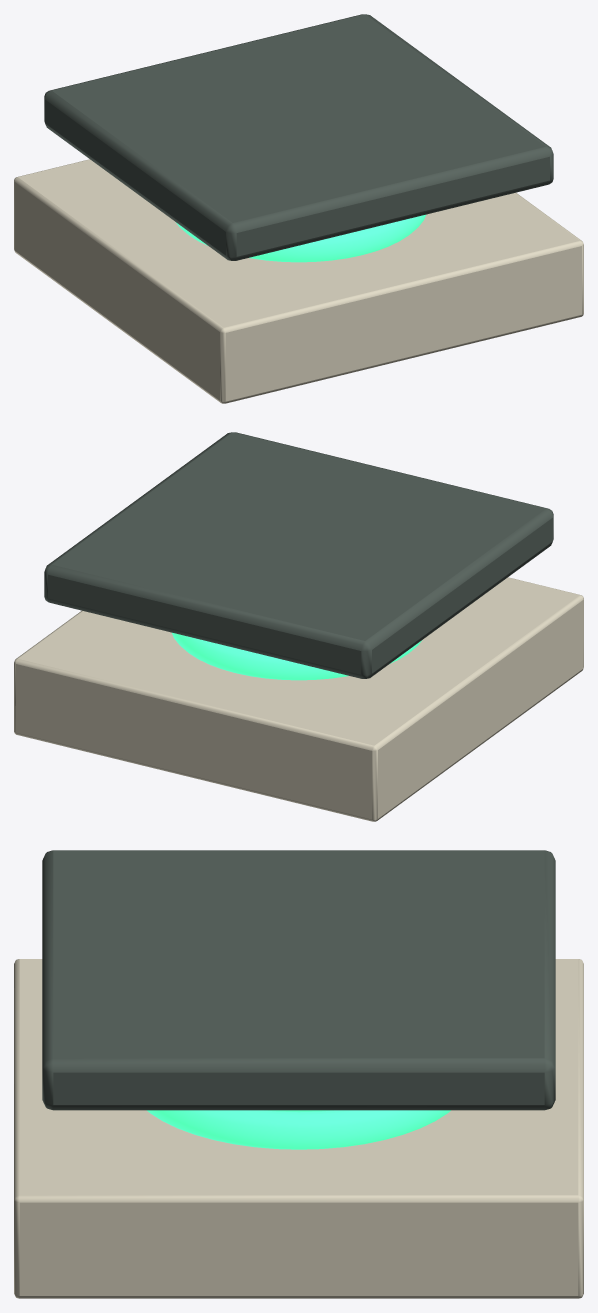
The model's file is zonai_spring-leM8MP_C.glb.
3 views of the same model, one above another, from view 1: azimuth 30°, elevation 25°; view 2: azimuth 150°, elevation 25°; view 3: azimuth 270°, elevation 25° (orthographic). The views are drawn at different scales.
Parts seen in each view (by area): view 1: body, plate; view 2: body, plate; view 3: plate, body.
Part boxes in pixels (box(x1,y1,x2,y2)): body: box(14, 159, 583, 403); plate: box(44, 14, 553, 260); body: box(14, 577, 583, 821); plate: box(44, 432, 553, 678); plate: box(42, 850, 555, 1110); body: box(14, 959, 583, 1298).
Size of the model in its own units: 0.8 by 0.35 by 0.8.
